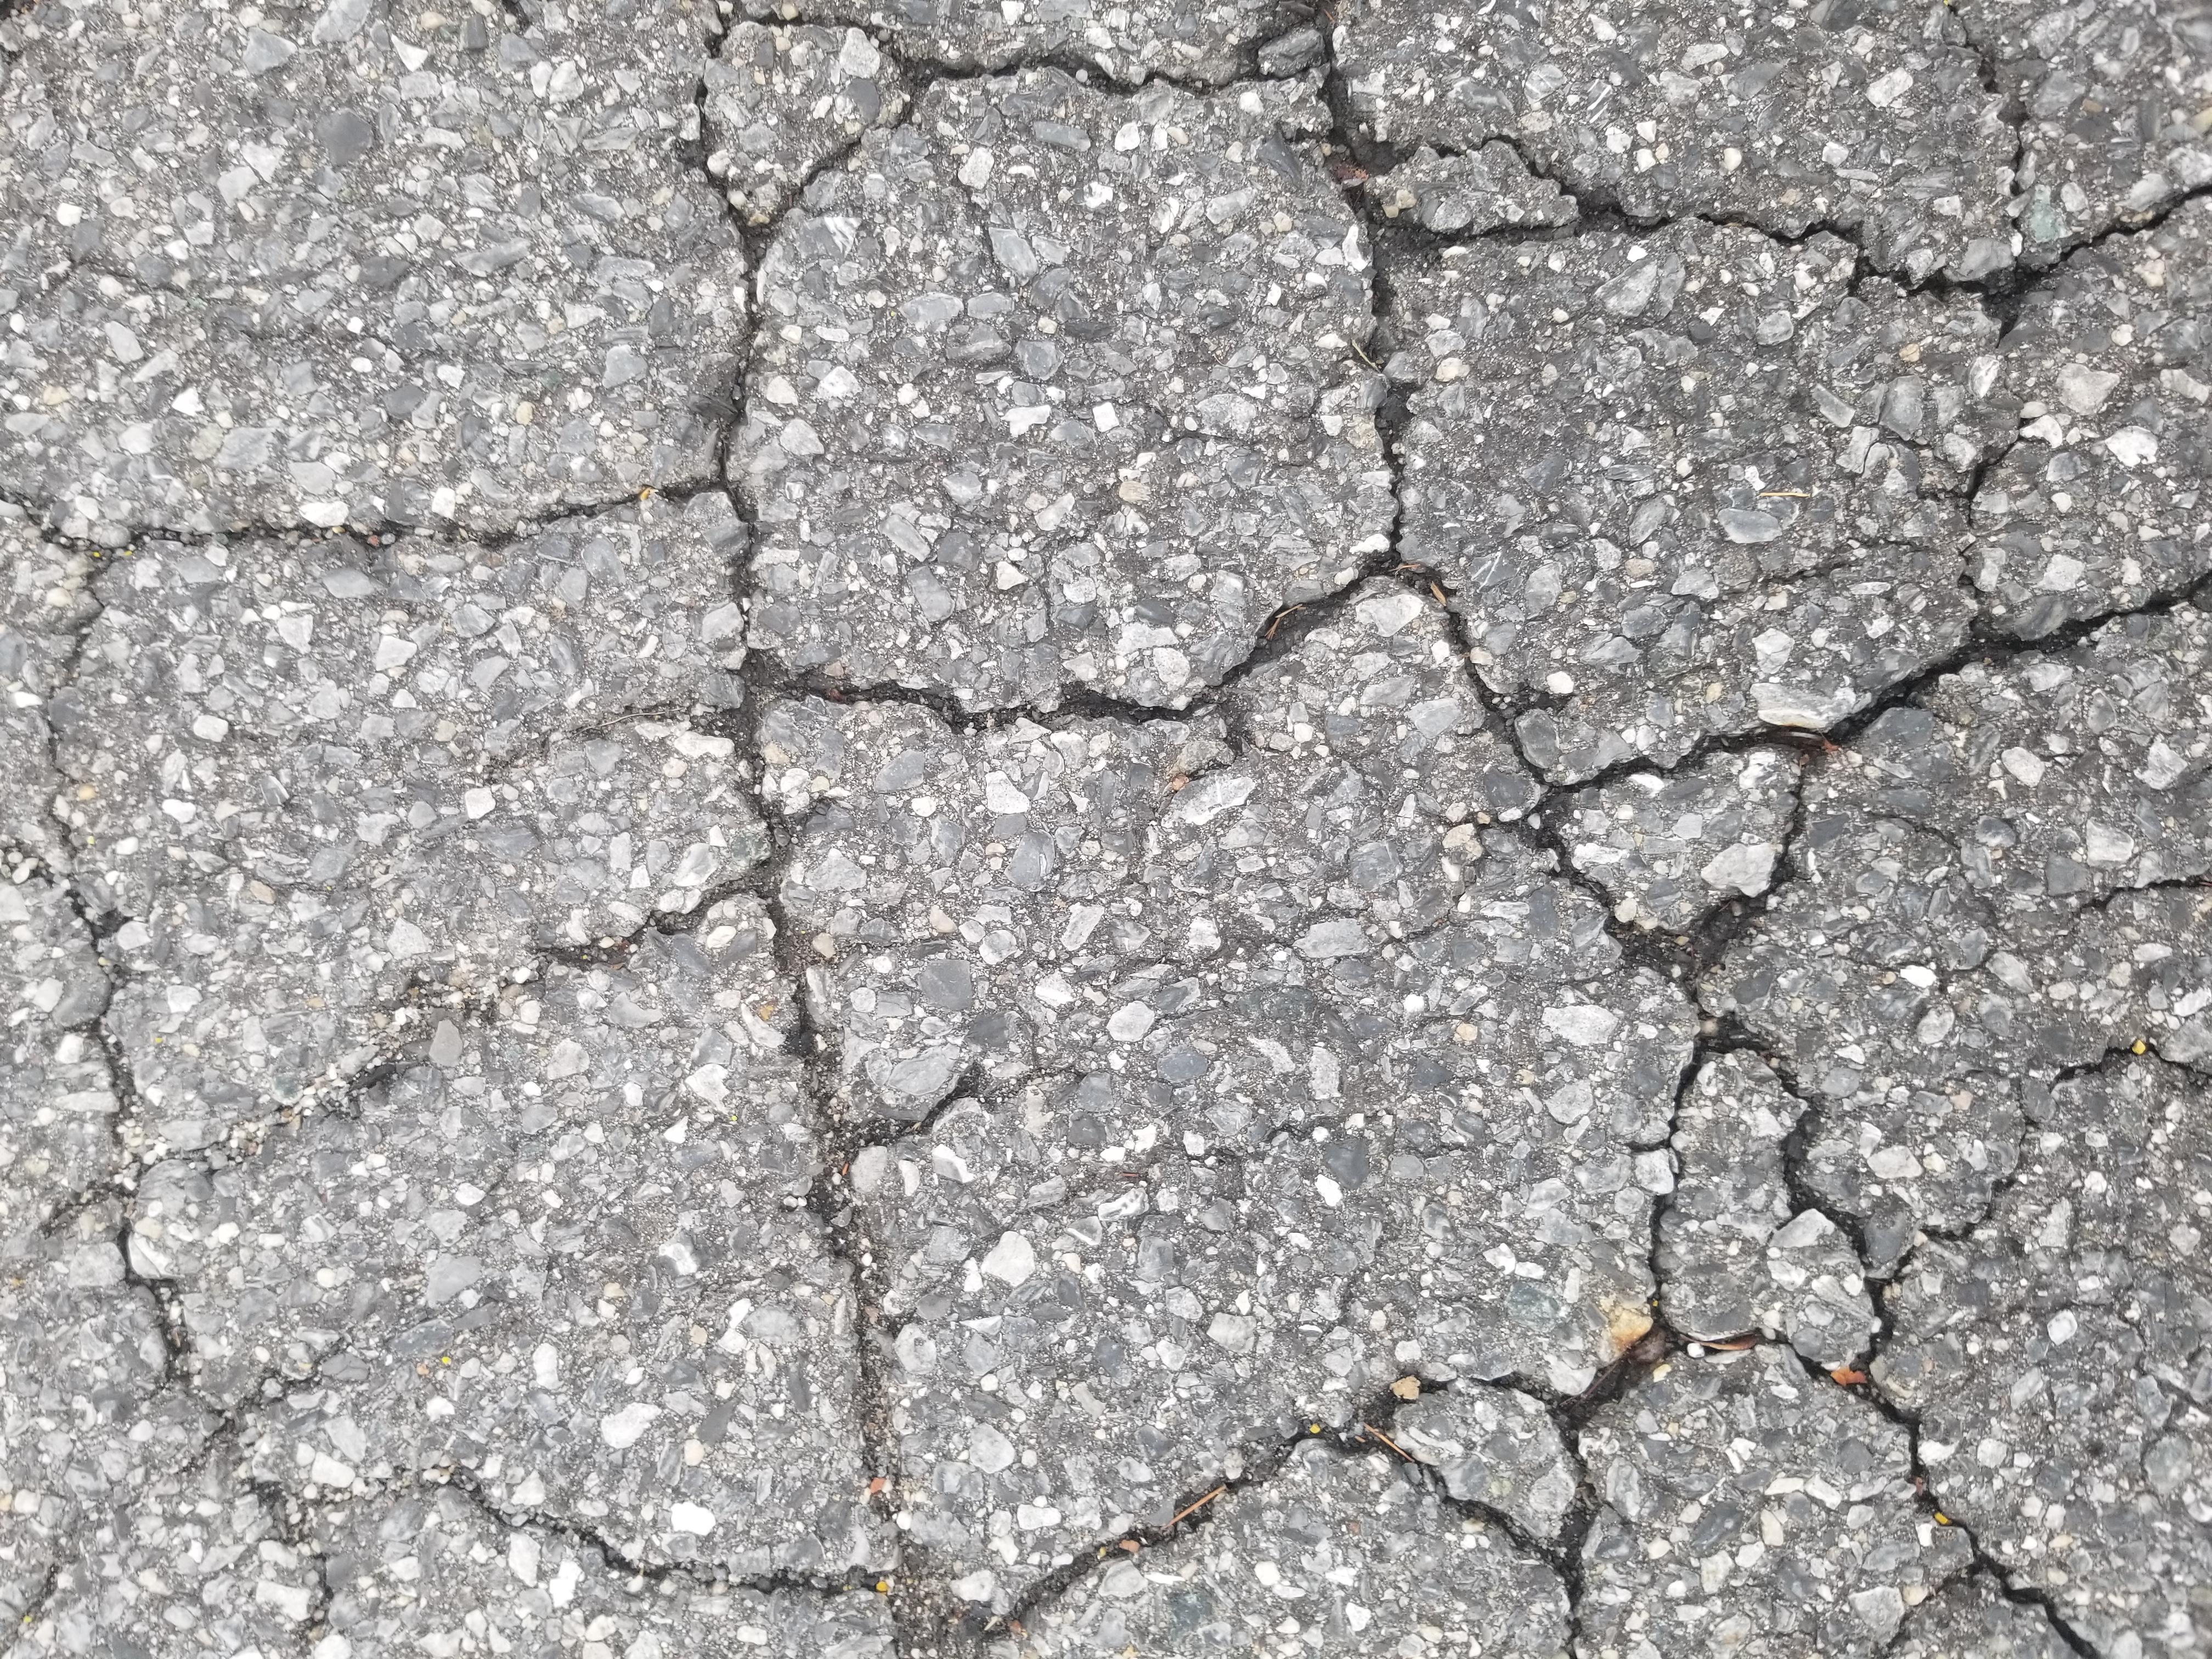alligator-crack: (19, 35, 2196, 1656)
